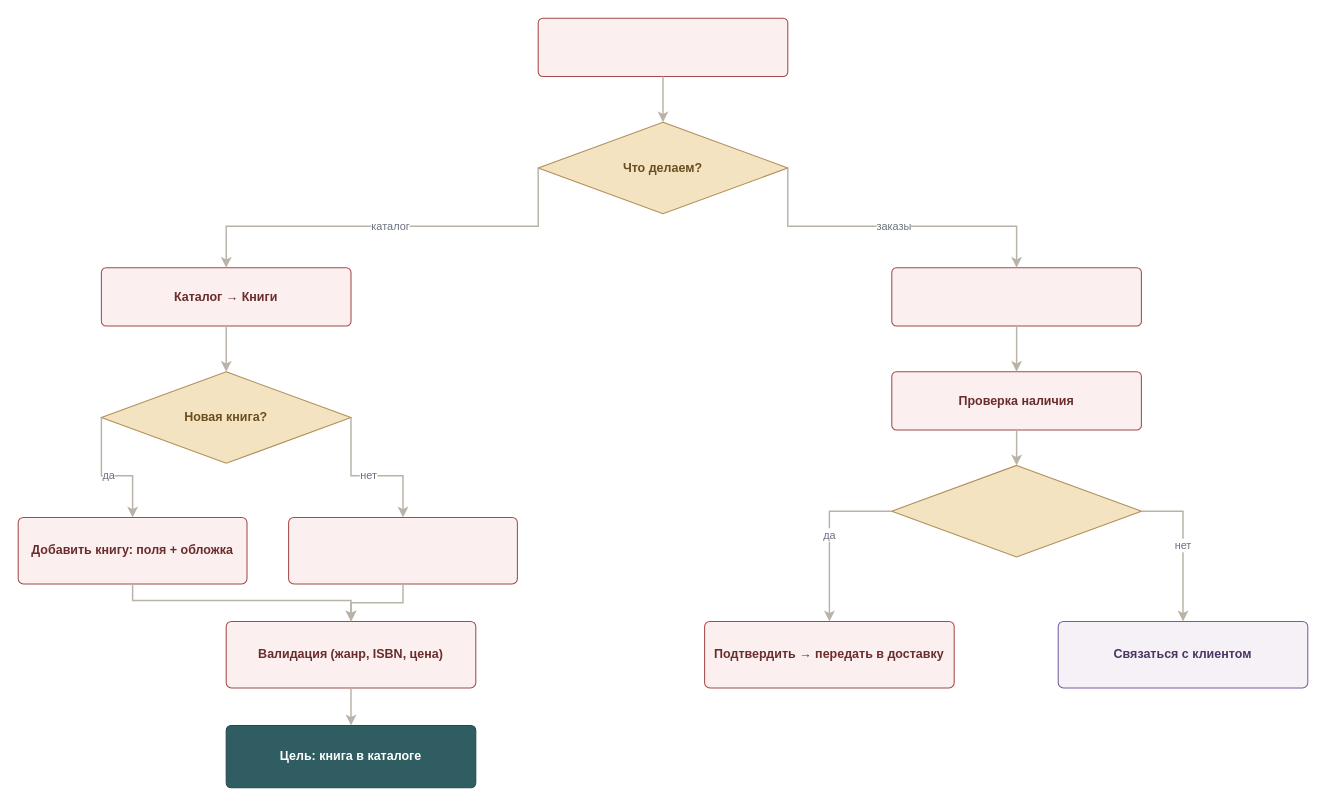
This 1326x806 diagram has some shape labels left out. The box of each missing label's shape, as (x1, y1, x2, y2) in pixels:
Заказы → новый заказ: (891, 267, 1141, 326)
Книга есть?: (891, 464, 1141, 557)
Редактирование книги: (288, 516, 517, 584)
Старт: /admin, вход: (537, 17, 788, 76)
